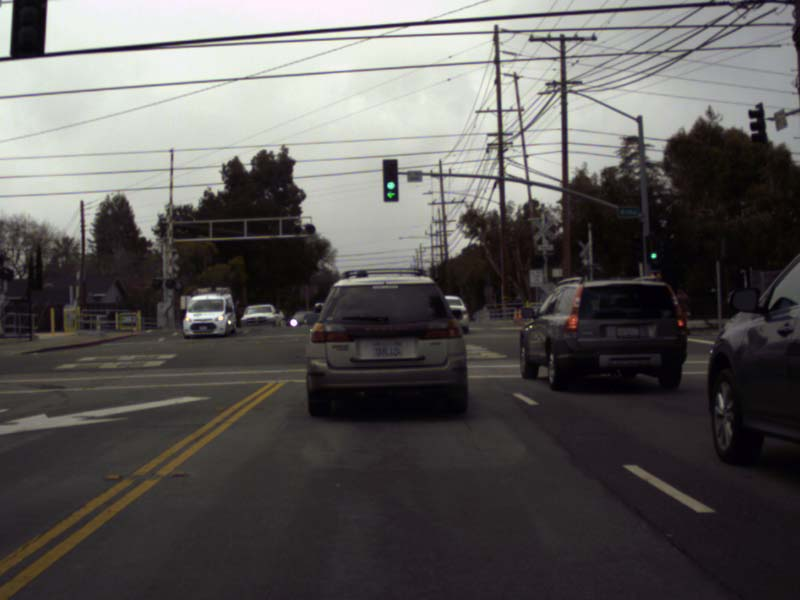Green: (383, 159, 398, 201), (646, 236, 659, 260)
